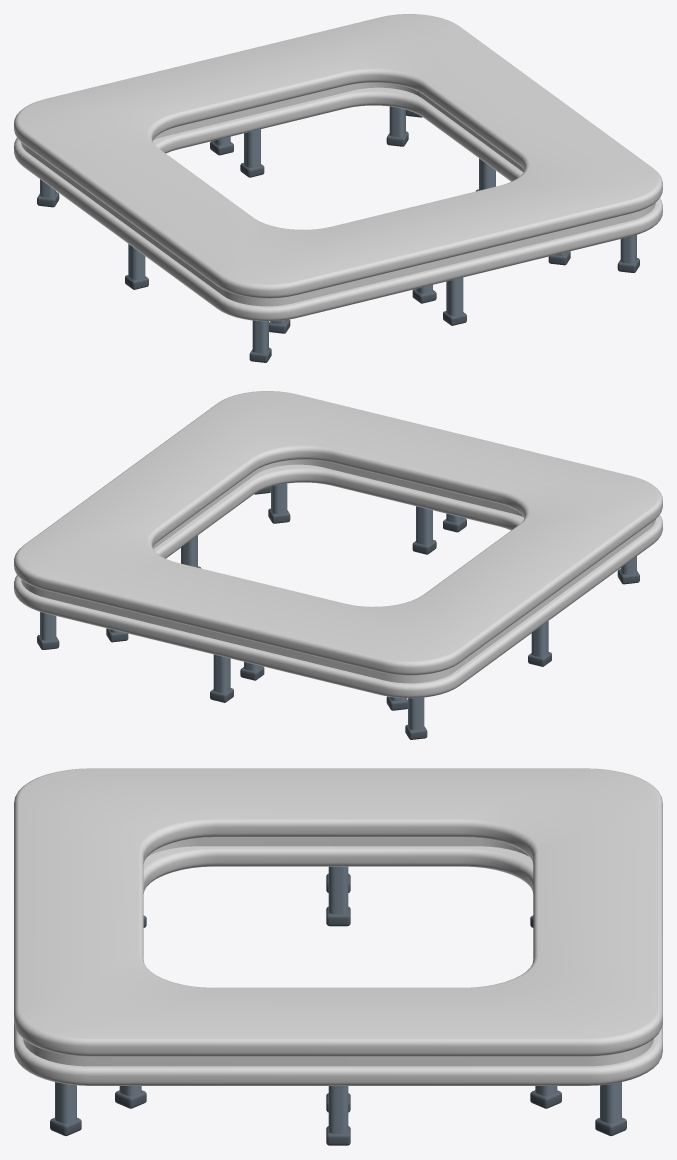
Rendered from Center_Table.fbx.
3 renders of one model, top to bottom at view 1: azimuth 30°, elevation 25°; view 2: azimuth 150°, elevation 25°; view 3: azimuth 270°, elevation 25°, orthographic. The views are drawn at different scales.
Parts seen in each view (by area): view 1: Center Table; view 2: Center Table; view 3: Center Table.
Boxes of the visible parts, x1=… form: Center Table: x1=14, y1=14, x2=662, y2=362; Center Table: x1=14, y1=391, x2=662, y2=739; Center Table: x1=14, y1=768, x2=662, y2=1145.
Bounding box in the file's own units: 500 × 95 × 500.
